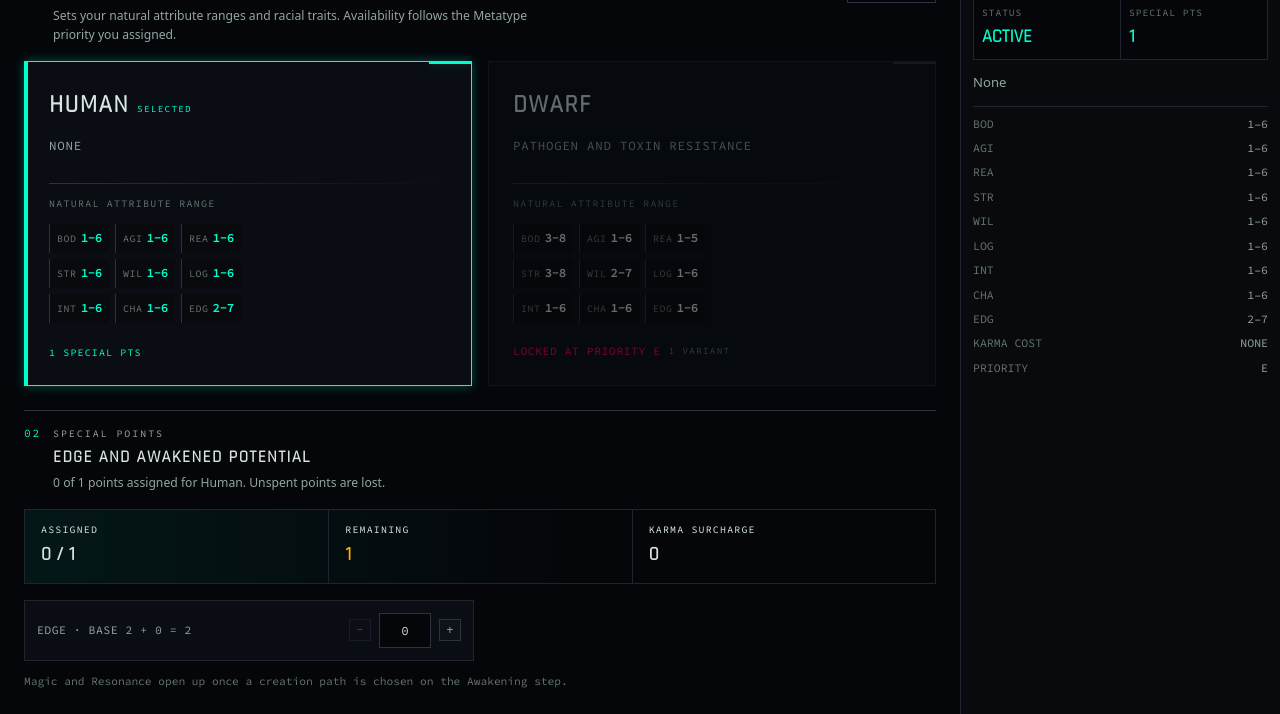
it: MetatypeStep › shows the Human base Edge and Priority E special attribute grant
The image size is (1280, 714).
(page scrolled)
Check: the text "0 of 1 points assigned for Human. Unspent points are lost." is shown, box [53,474,385,492]
Check: the text "edge · base 2 + 0 = 2" is shown, box [37,621,192,639]
Replace the text in the number field named "edge special attribute points" with "1" at (405, 630), box [379,612,431,648]
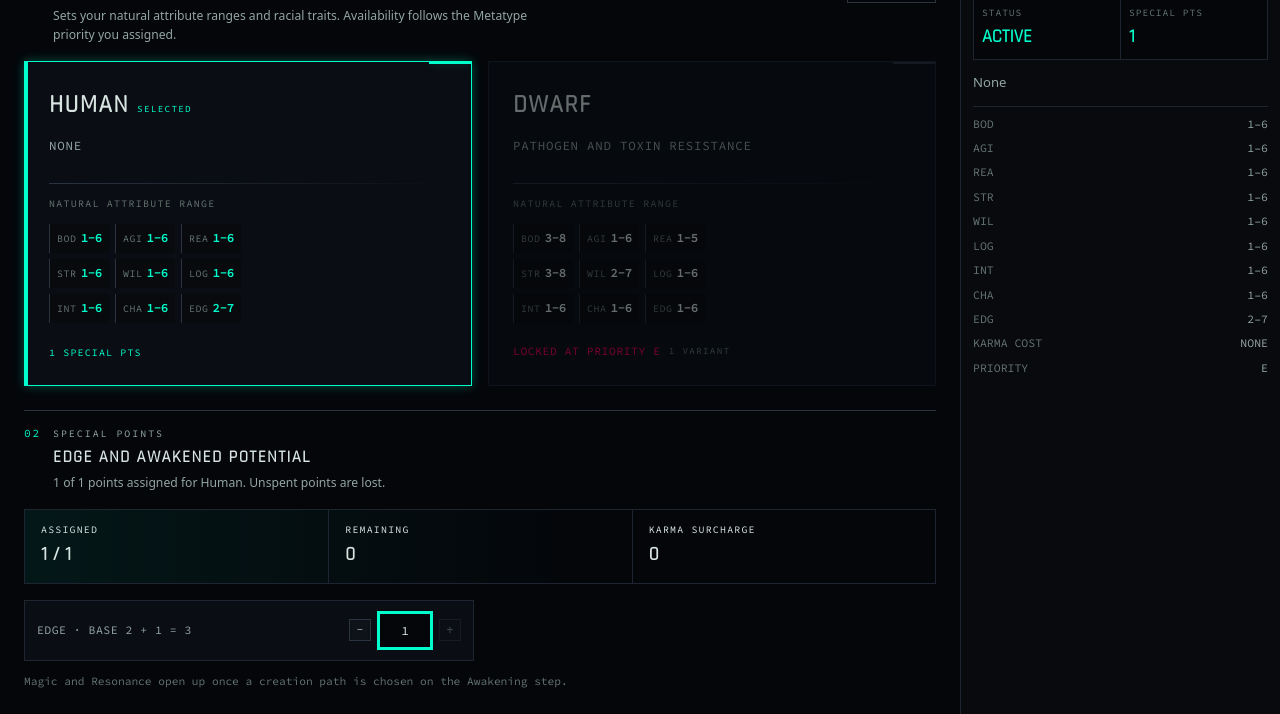
Check: the text "1 of 1 points assigned for Human. Unspent points are lost." is shown, box [53,474,385,492]
Check: the text "edge · base 2 + 1 = 3" is shown, box [37,621,192,639]
